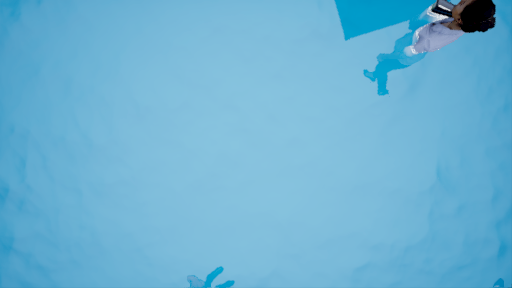person: (358, 1, 494, 105)
